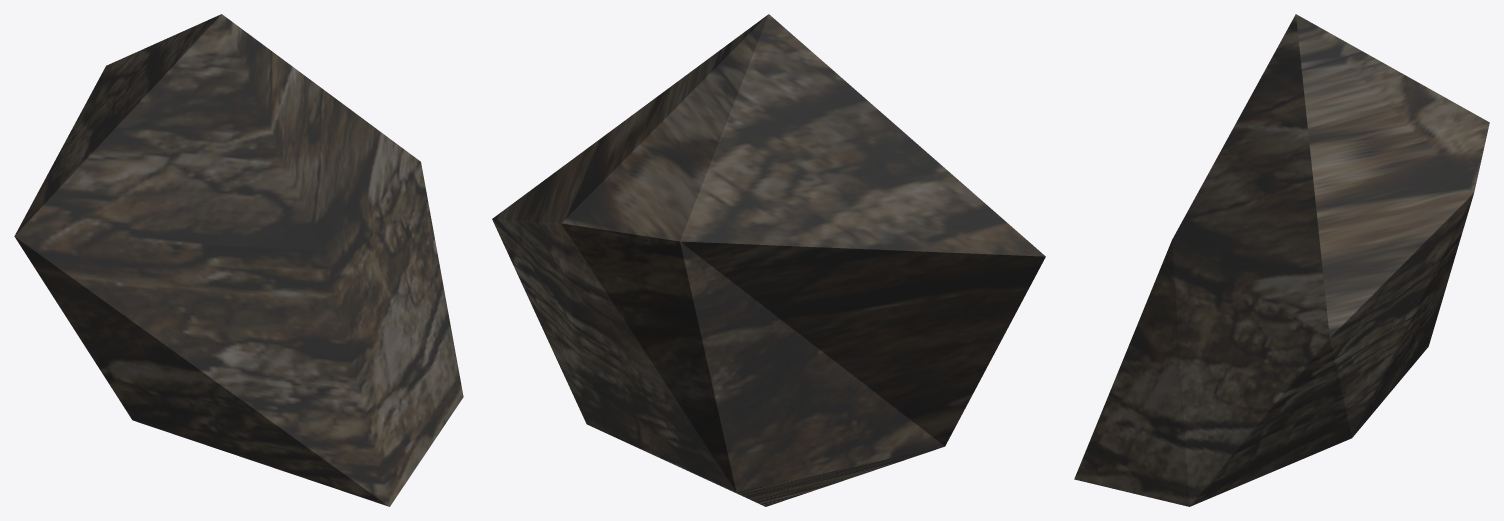
The picture shows the model from 3 angles, left to right: view 1: azimuth 30°, elevation 25°; view 2: azimuth 150°, elevation 25°; view 3: azimuth 270°, elevation 25°; orthographic projection. The views are drawn at different scales.
Visible parts, largest first — view 1: AsteroidC1; view 2: AsteroidC1; view 3: AsteroidC1.
Part boxes in pixels (x1,y1,x2,y2): AsteroidC1: (14, 14, 463, 506); AsteroidC1: (492, 14, 1045, 506); AsteroidC1: (1074, 14, 1489, 506).
Size of the model in its own units: 2.39 by 2.3 by 1.94.
1 material, 1 textured.
